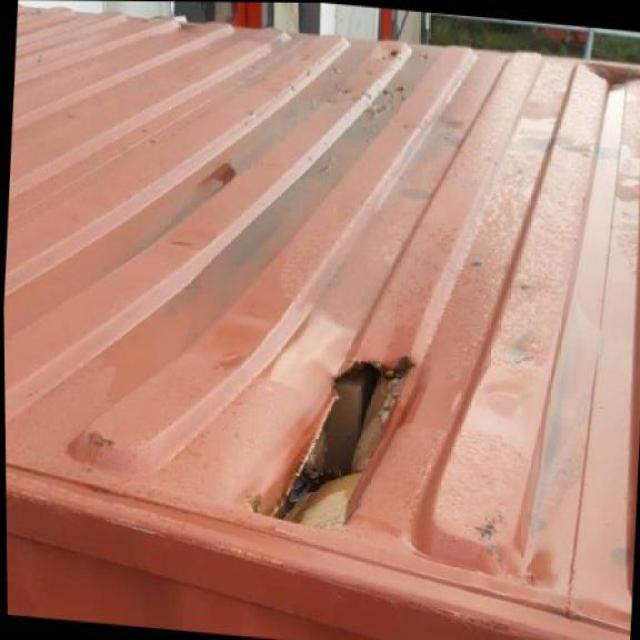hole: (254, 336, 418, 543)
